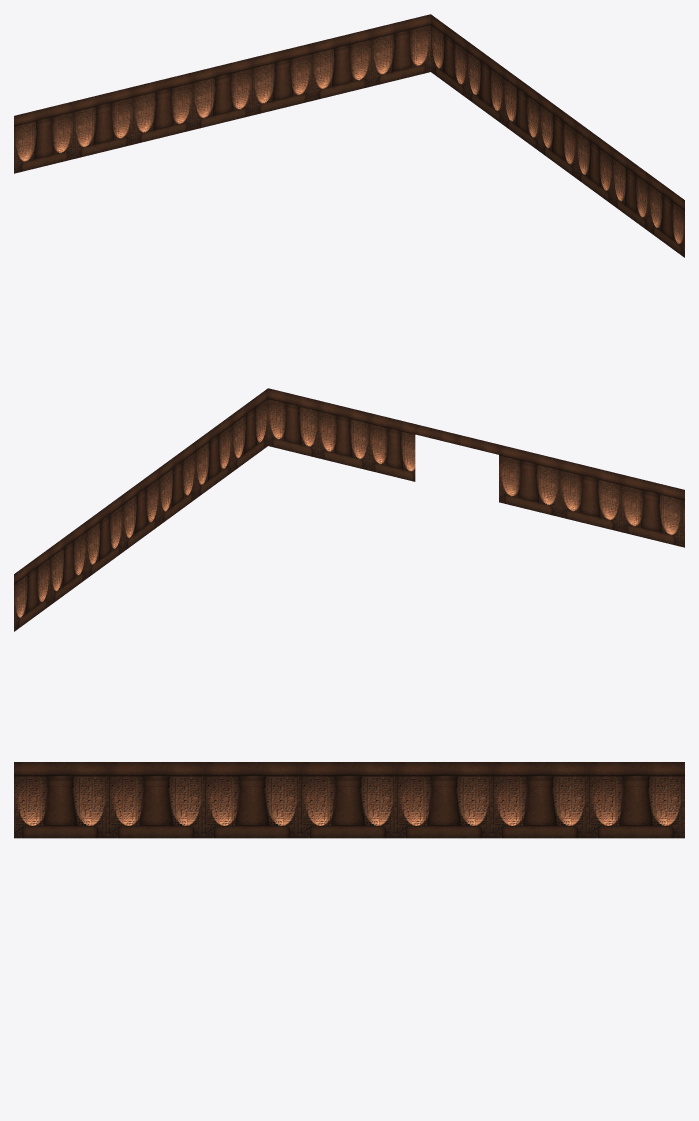
The model's file is Wall1.glb.
The picture shows the model from 3 angles, top to bottom: view 1: azimuth 30°, elevation 25°; view 2: azimuth 150°, elevation 25°; view 3: azimuth 270°, elevation 25°; orthographic projection. The views are drawn at different scales.
Visible parts, largest first — view 1: Wall1; view 2: Wall1; view 3: Wall1.
Boxes of the visible parts, bbox=[...] form: Wall1: bbox=[14, 14, 684, 257]; Wall1: bbox=[14, 388, 684, 631]; Wall1: bbox=[14, 762, 684, 838].
Size of the model in its own units: 15226 by 2020 by 16081.
Materials: 1 (1 with a texture image).
